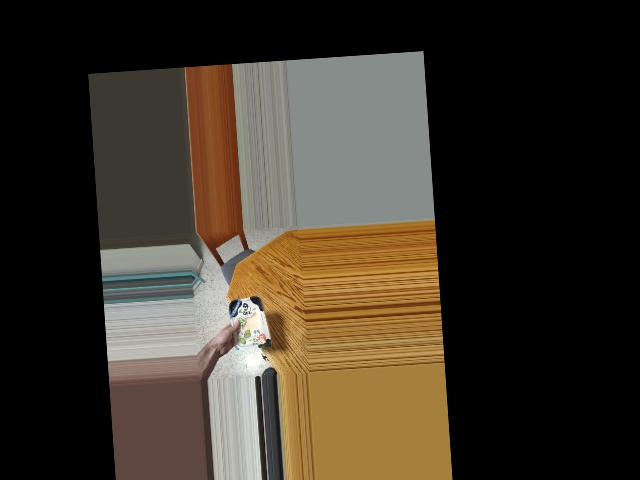cheese: (228, 297, 268, 346)
